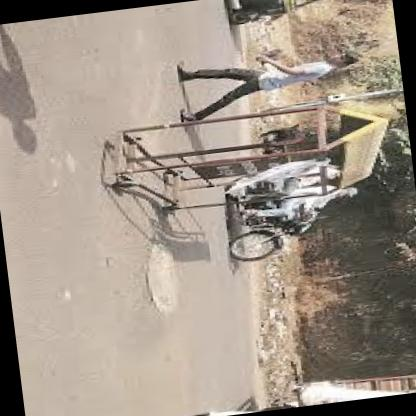manholes: (116, 222, 209, 324)
